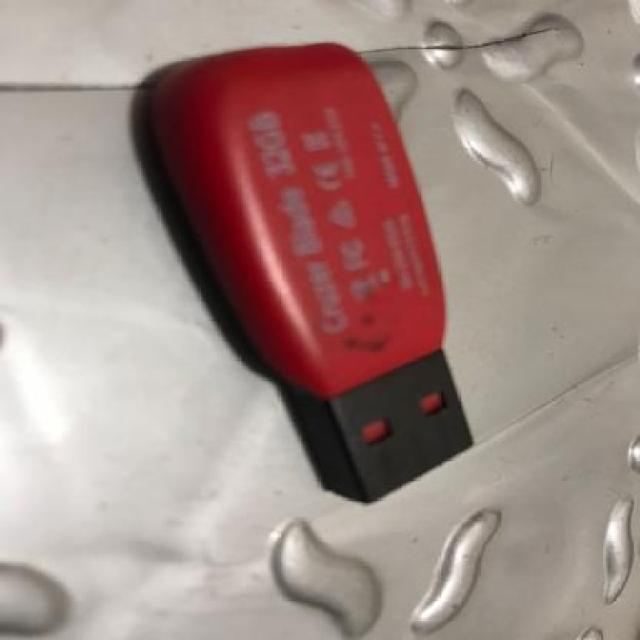Flashdisk: (123, 25, 505, 527)
